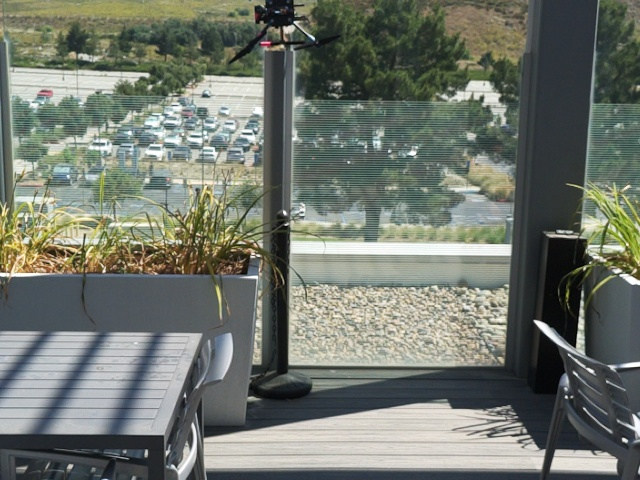quadcopter: (226, 1, 345, 78)
